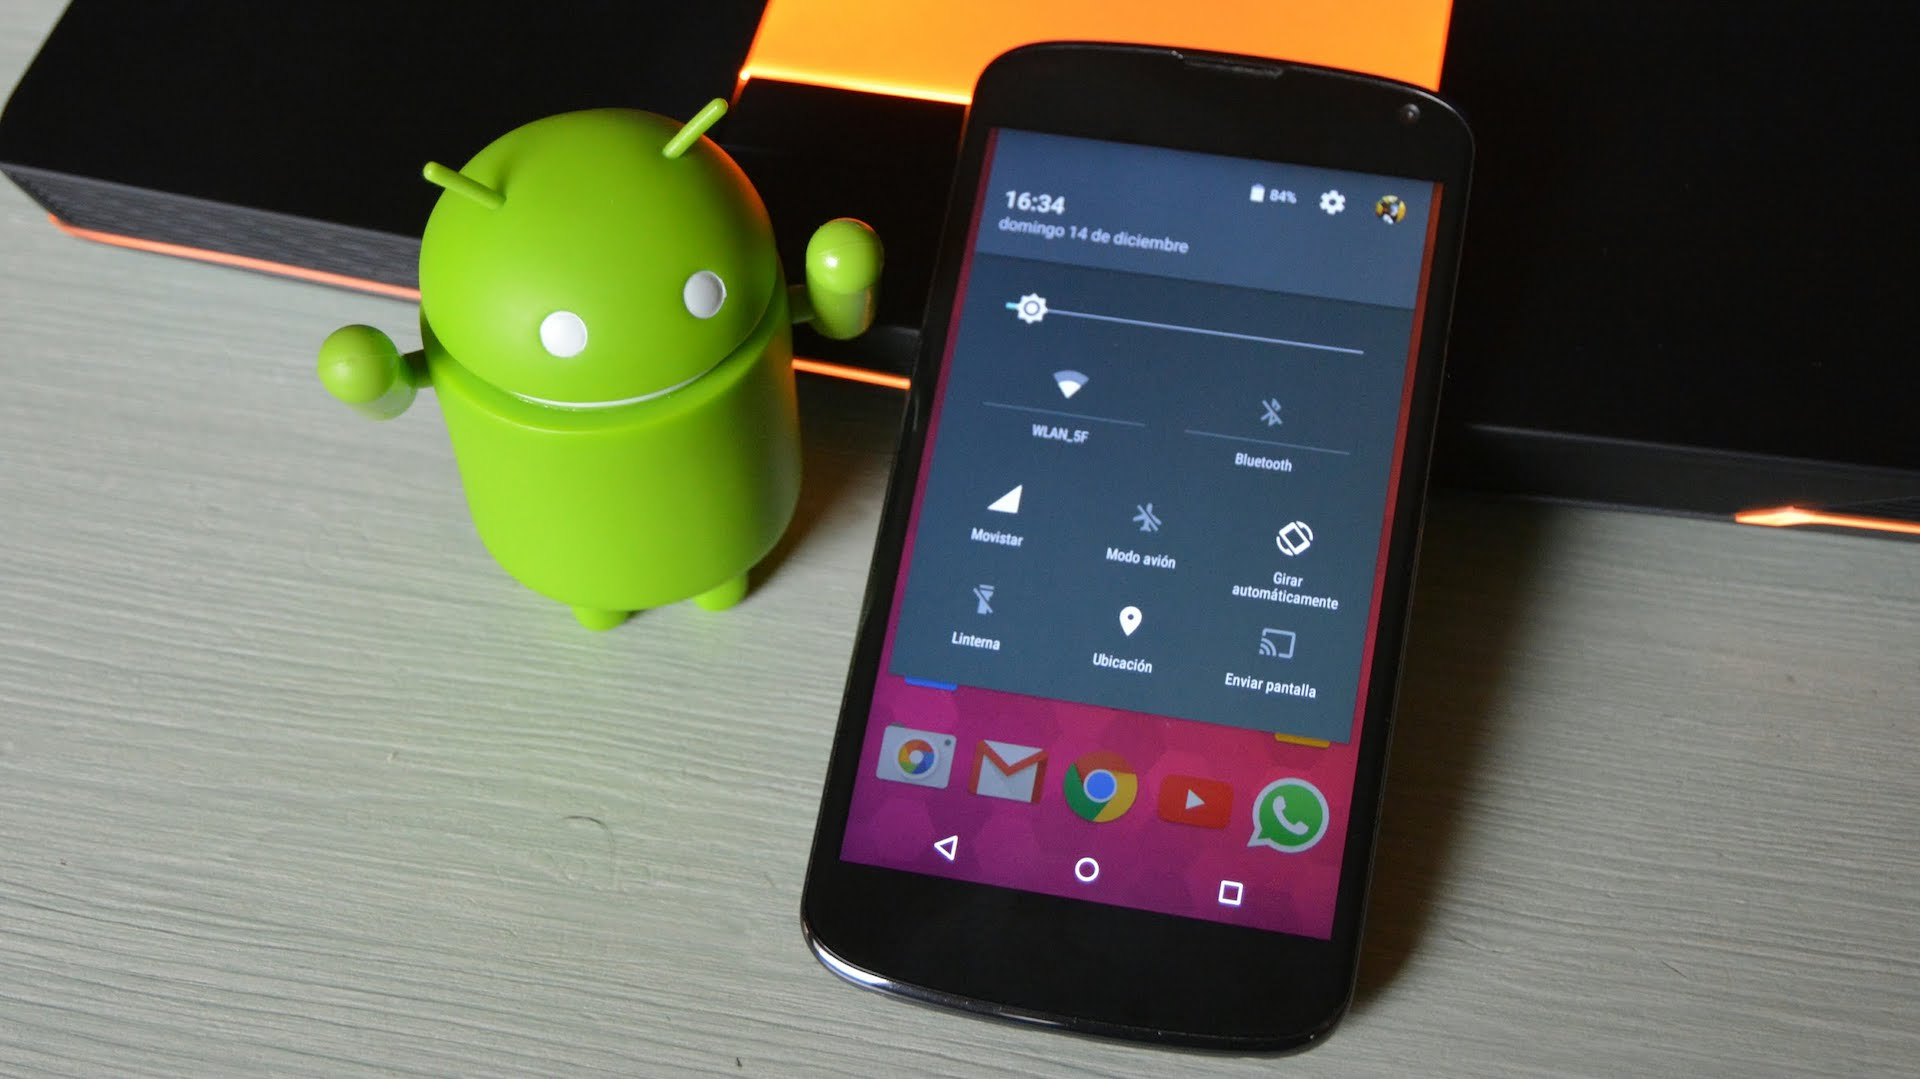smartphone: (796, 38, 1480, 1062)
